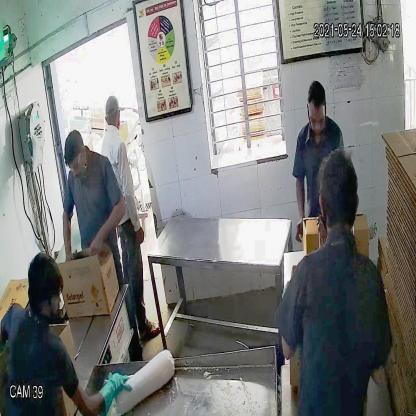goggles: (65, 155, 85, 174)
